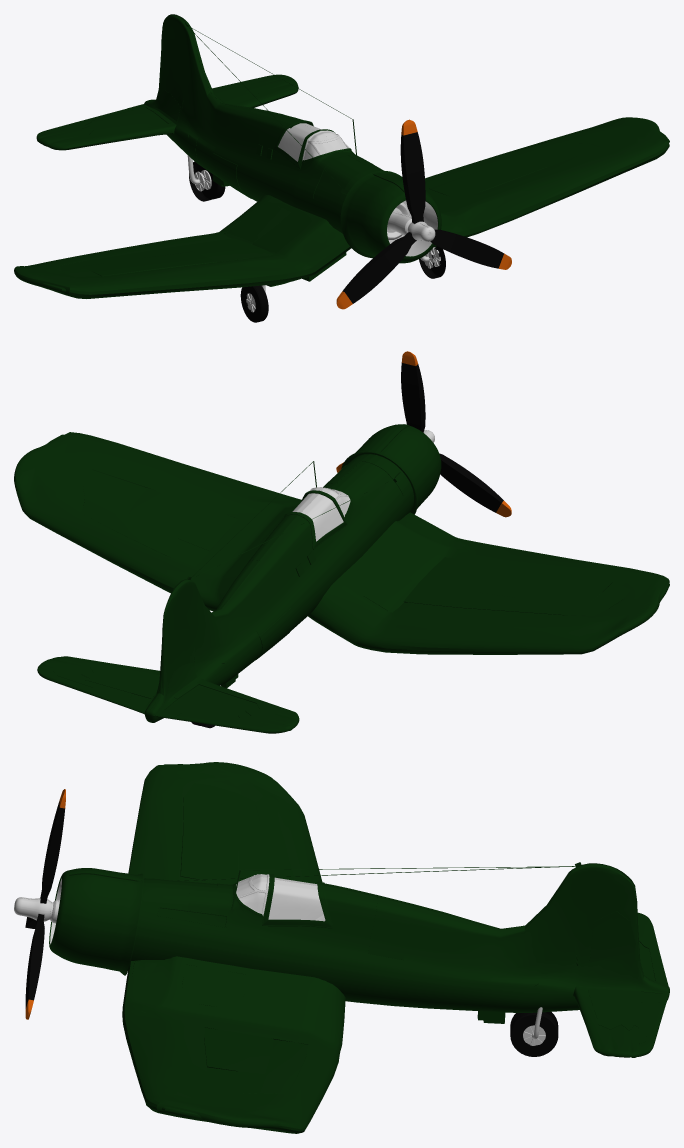
File: M_Corsair_001.fbx
3 views of the same model, one above another, from view 1: azimuth 30°, elevation 25°; view 2: azimuth 150°, elevation 25°; view 3: azimuth 270°, elevation 25° (orthographic). The views are drawn at different scales.
Parts seen in each view (by area): view 1: Cube.001; view 2: Cube.001; view 3: Cube.001.
Part boxes in pixels (x1,y1,x2,y2): Cube.001: (14, 14, 669, 322); Cube.001: (14, 351, 669, 733); Cube.001: (14, 762, 669, 1133).
Size of the model in its own units: 271 by 210 by 92.97.
